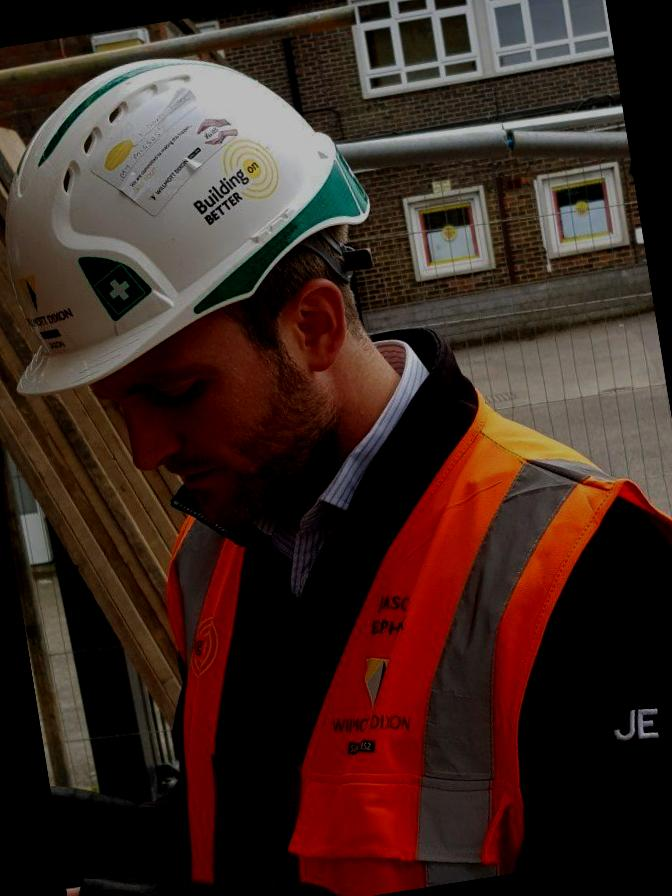helmet: (0, 16, 428, 407)
person: (0, 0, 672, 896)
